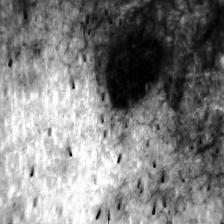Benign Marking or Mole: (103, 29, 164, 105)
